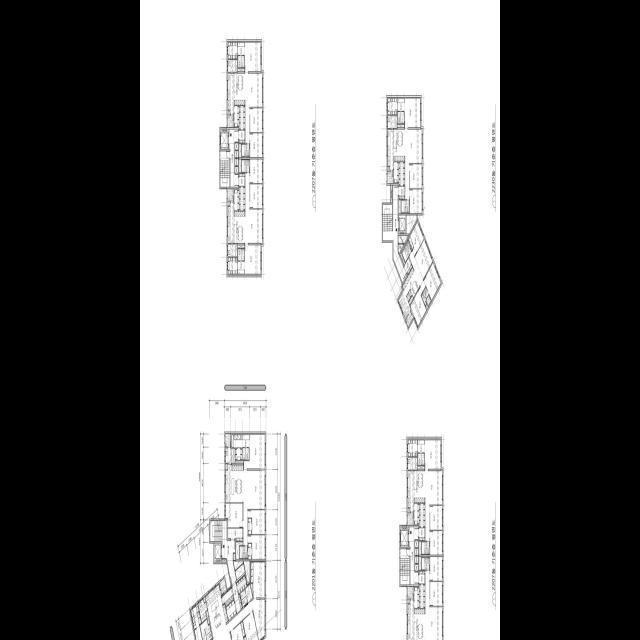background: (140, 0, 500, 640)
space_balconi: (405, 309, 414, 327), (219, 577, 227, 594), (225, 433, 231, 446), (387, 171, 393, 183)
space_bedroom: (244, 433, 265, 468), (410, 286, 427, 327), (424, 261, 441, 300), (408, 220, 424, 256), (251, 561, 265, 597), (245, 41, 261, 71), (245, 244, 261, 274), (405, 97, 421, 127), (425, 438, 441, 468), (243, 611, 258, 640), (248, 509, 265, 534), (225, 503, 242, 527), (248, 535, 265, 559), (250, 184, 263, 208), (430, 581, 443, 605), (250, 107, 262, 132), (410, 163, 422, 188), (250, 159, 262, 183), (430, 505, 442, 529), (430, 556, 442, 580), (430, 530, 442, 554), (410, 189, 422, 213), (231, 620, 245, 640), (250, 133, 262, 156), (248, 518, 252, 534), (248, 543, 252, 559)
space_dressroom: (190, 603, 201, 629), (407, 438, 417, 456), (227, 41, 237, 58), (227, 257, 237, 274), (387, 97, 397, 114), (232, 434, 242, 447), (235, 448, 242, 459)
space_elevator: (220, 129, 228, 149), (400, 526, 408, 546), (214, 543, 221, 562), (399, 215, 406, 233)
space_elevator_hall: (204, 520, 236, 584), (393, 185, 406, 282), (409, 526, 418, 584), (229, 129, 238, 186)
space_front: (232, 582, 242, 613), (236, 574, 247, 593), (226, 600, 236, 620), (228, 528, 243, 541), (404, 256, 412, 275), (239, 105, 245, 129), (419, 584, 425, 608), (239, 187, 245, 210), (419, 503, 425, 526), (239, 173, 245, 186), (419, 527, 425, 540), (399, 186, 405, 199), (239, 130, 245, 142), (419, 571, 425, 583)
space_kitchen: (205, 583, 228, 637), (398, 267, 420, 319), (407, 470, 425, 512), (227, 73, 245, 114), (227, 201, 245, 242), (407, 599, 425, 640), (387, 129, 405, 169), (225, 463, 243, 502), (234, 189, 239, 210), (234, 105, 239, 126), (414, 587, 419, 608), (414, 503, 419, 524)
space_living_room: (213, 599, 265, 640), (243, 470, 265, 545), (245, 71, 263, 142), (425, 469, 443, 540), (409, 238, 433, 291), (405, 127, 422, 199), (245, 173, 262, 244), (425, 570, 442, 640)
space_other: (222, 587, 234, 606), (198, 598, 207, 622), (407, 215, 417, 233), (235, 563, 245, 579), (225, 447, 235, 462), (243, 561, 250, 582), (399, 161, 405, 185), (227, 59, 237, 72), (387, 115, 397, 128), (227, 244, 237, 256), (407, 457, 417, 469), (394, 161, 399, 183), (236, 541, 242, 559), (233, 561, 243, 570), (398, 235, 408, 243), (400, 252, 405, 265), (398, 244, 404, 253), (206, 610, 209, 624), (250, 583, 253, 595), (409, 295, 413, 304), (239, 143, 241, 157), (419, 541, 421, 554), (239, 159, 241, 172), (419, 556, 421, 569), (399, 200, 401, 213), (235, 158, 238, 165), (235, 150, 238, 157), (235, 166, 238, 173), (415, 564, 418, 571), (415, 548, 418, 555), (415, 540, 418, 547), (415, 556, 418, 563), (235, 142, 238, 149), (397, 124, 404, 127), (238, 244, 244, 247), (238, 68, 244, 71), (203, 596, 206, 602), (391, 185, 392, 202), (235, 460, 243, 462), (222, 559, 227, 562), (225, 464, 228, 469), (227, 110, 230, 114), (233, 553, 235, 559), (418, 466, 424, 468), (407, 508, 410, 512), (426, 304, 428, 310), (387, 166, 390, 169)
space_outdoor_room: (227, 188, 233, 200), (227, 115, 233, 127), (407, 586, 413, 598), (407, 513, 413, 524)
space_staircase: (383, 204, 393, 240), (400, 548, 409, 584), (220, 151, 229, 186), (210, 520, 222, 531)
space_toilet: (200, 619, 212, 640), (402, 241, 411, 262), (397, 97, 404, 123), (421, 287, 431, 305), (245, 584, 253, 602), (194, 625, 202, 640), (422, 541, 430, 554), (242, 159, 250, 171), (242, 144, 250, 156), (422, 557, 430, 569), (401, 200, 409, 212), (240, 546, 248, 558), (242, 434, 249, 447), (238, 41, 244, 55), (418, 438, 424, 452), (238, 260, 244, 273), (241, 596, 247, 607), (240, 589, 246, 600), (242, 447, 246, 459), (241, 248, 244, 260), (238, 248, 241, 260), (241, 55, 244, 67), (238, 55, 241, 67), (246, 447, 249, 459), (418, 453, 421, 464), (421, 453, 424, 464)
